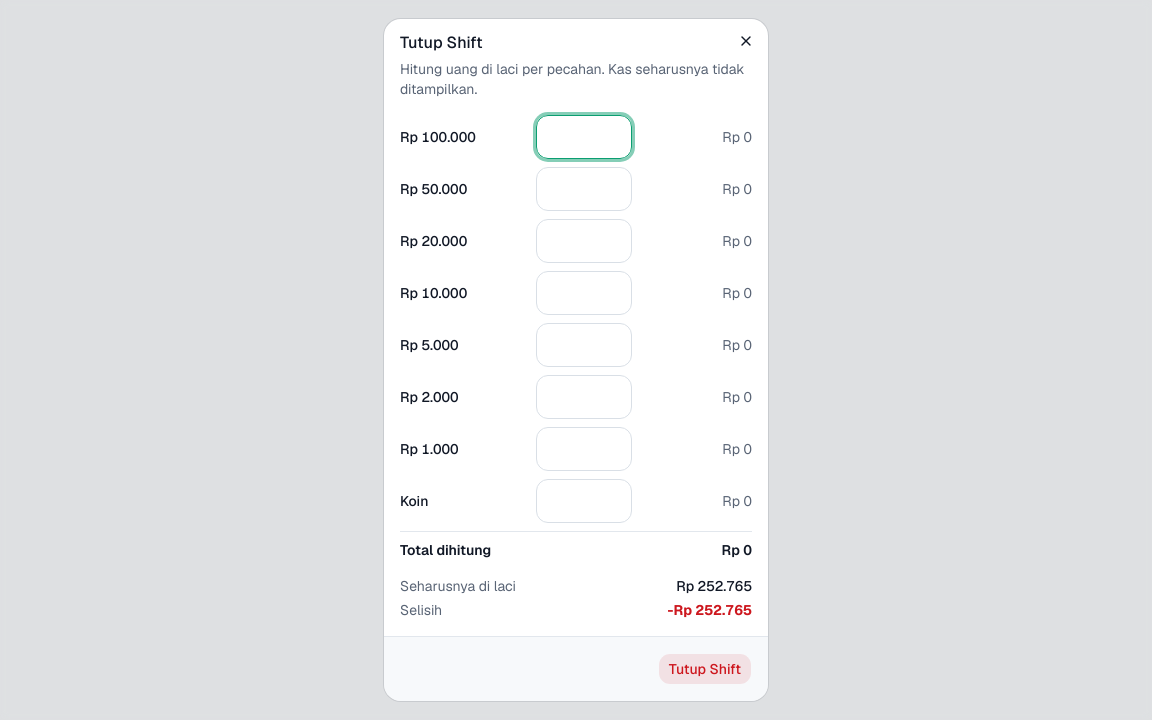
Scenario: CloseShiftDialog (15 · UX-02) › shows a manager the expected cash and the variance while counting blind
This screenshot has width=1152, height=720.
Type "2" into the field named "Lembar Rp 100.000" at (584, 137), box [536,115,632,159]
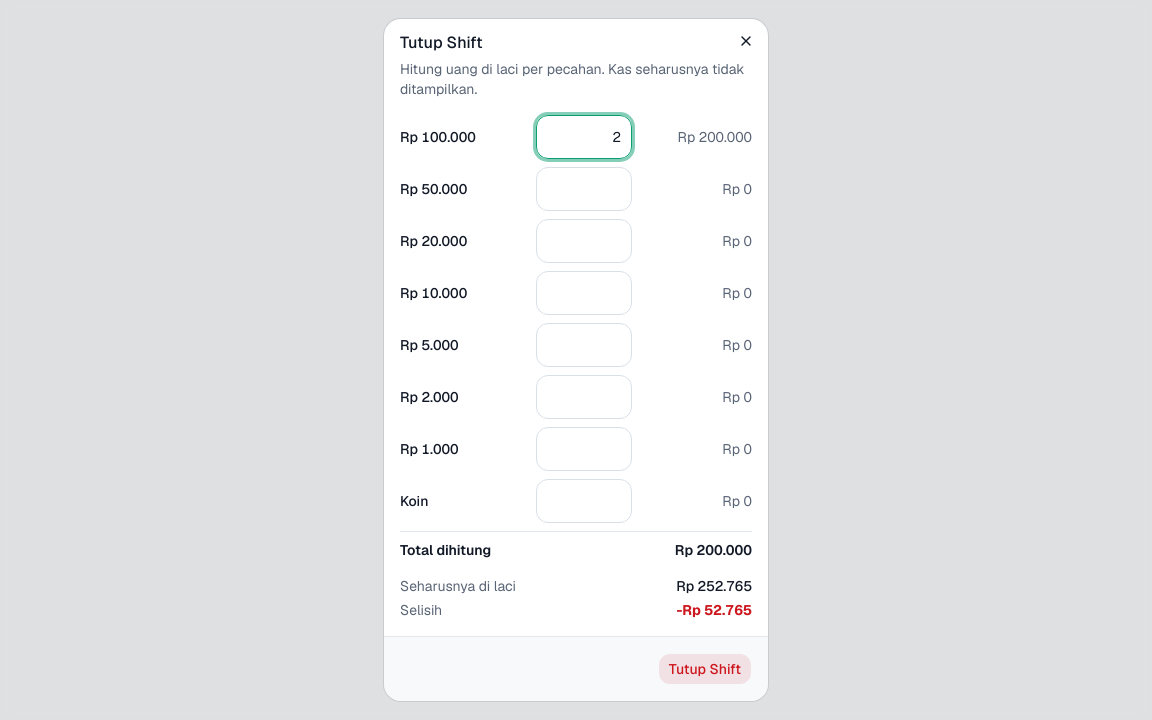
Expected: the text "Rp 252.765" is shown, [676,577,752,595]
Expected: the text "-Rp 52.765" is shown, [676,601,752,619]
